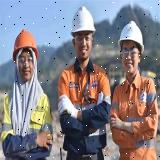Helmet: (118, 21, 146, 57), (12, 28, 40, 63), (71, 6, 97, 33)
